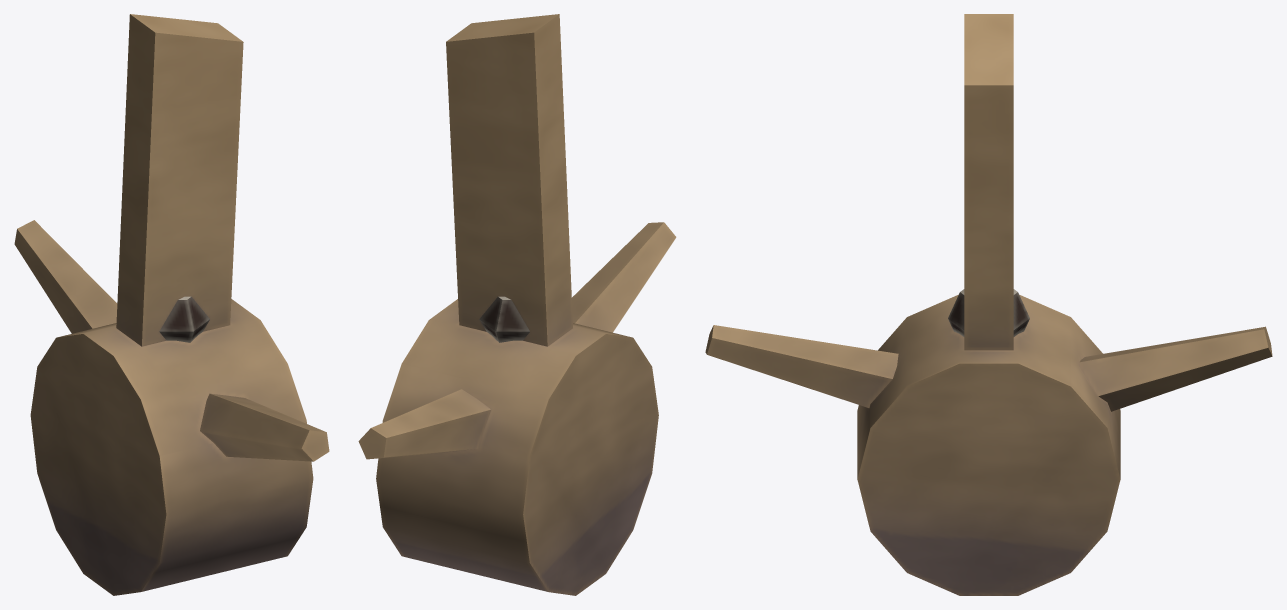
The model's file is vertebra.glb.
The picture shows the model from 3 angles, left to right: view 1: azimuth 30°, elevation 25°; view 2: azimuth 150°, elevation 25°; view 3: azimuth 270°, elevation 25°; orthographic projection. The views are drawn at different scales.
Visible parts, largest first — view 1: SM_Vertebra; view 2: SM_Vertebra; view 3: SM_Vertebra.
Boxes of the visible parts, <box> form: SM_Vertebra: <box>14,14,329,595</box>; SM_Vertebra: <box>358,14,676,595</box>; SM_Vertebra: <box>705,14,1272,595</box>.
Bounding box in the file's own units: 0.1 × 0.358 × 0.345.
Materials: 2 (2 with a texture image).
